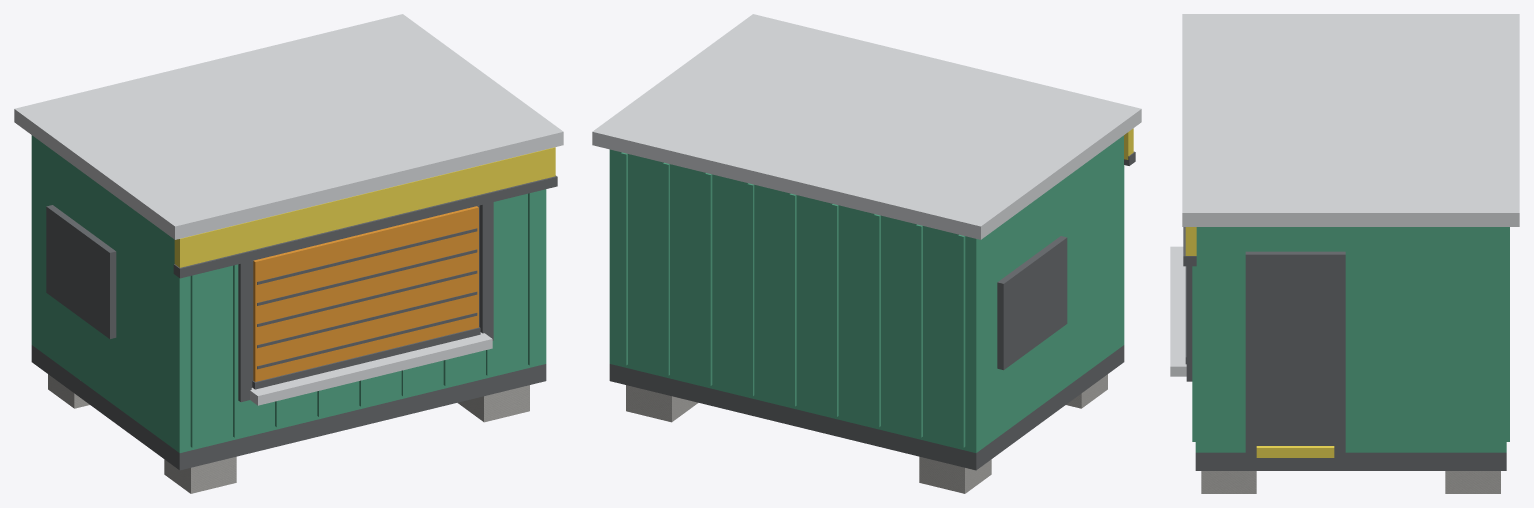
Rendered from recycling-and-waste-transfer-yard-recycling-and-waste--44618274__34902.glb.
The picture shows the model from 3 angles, left to right: view 1: azimuth 30°, elevation 25°; view 2: azimuth 150°, elevation 25°; view 3: azimuth 270°, elevation 25°; orthographic projection. The views are drawn at different scales.
Visible parts, largest first — view 1: recycling-and-waste-transfer-yard-reuse-shop-cabin, shutter/orange, shutter/charcoal; view 2: recycling-and-waste-transfer-yard-reuse-shop-cabin; view 3: recycling-and-waste-transfer-yard-reuse-shop-cabin.
Part boxes in pixels (x1=…): recycling-and-waste-transfer-yard-reuse-shop-cabin: x1=14, y1=14, x2=563, y2=493; shutter/orange: x1=253, y1=206, x2=478, y2=381; shutter/charcoal: x1=252, y1=228, x2=480, y2=389; recycling-and-waste-transfer-yard-reuse-shop-cabin: x1=592, y1=14, x2=1141, y2=493; recycling-and-waste-transfer-yard-reuse-shop-cabin: x1=1170, y1=14, x2=1519, y2=493.
Size of the model in its own units: 4.24 by 2.92 by 3.15.
8 materials, 2 textured.
